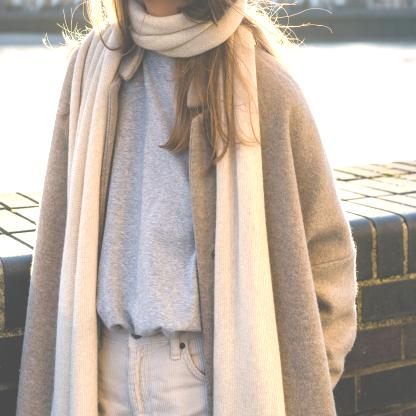dress: (24, 3, 361, 416)
